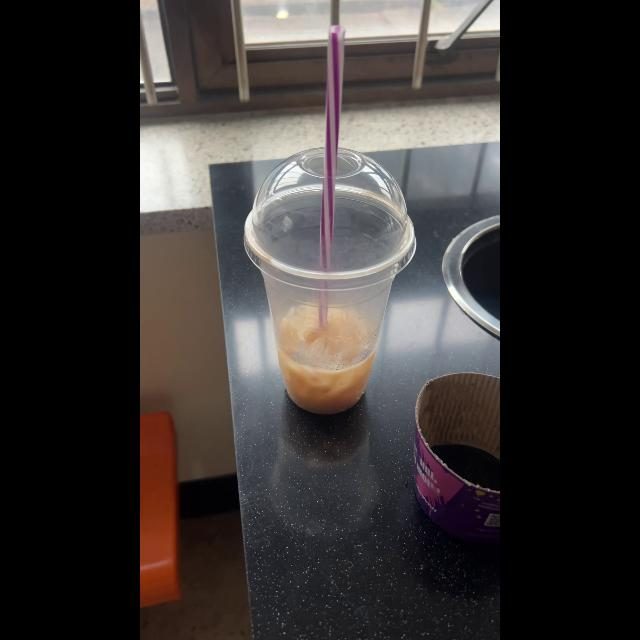dirty: (245, 148, 417, 408)
